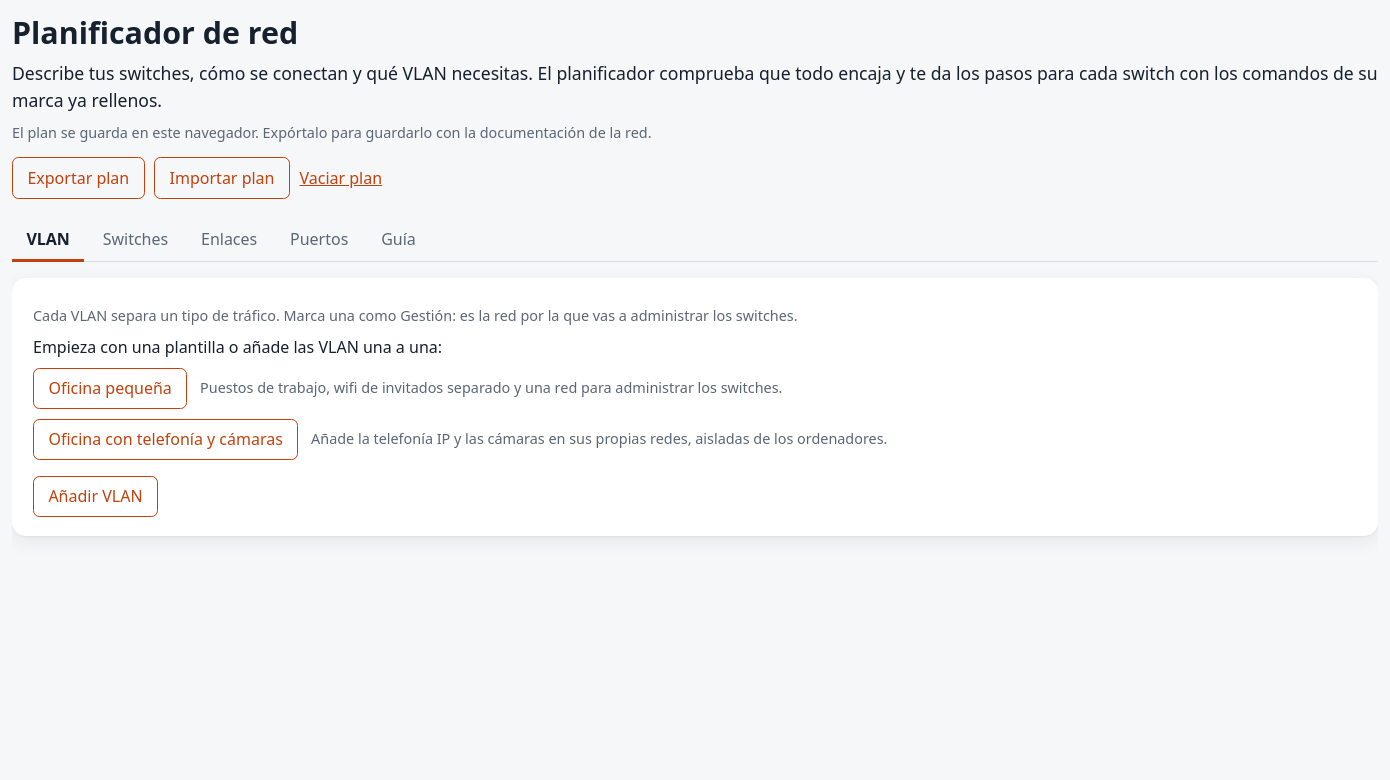
Scenario: PlannerPage › lists what is missing before showing a guide
Click the tab "Guía" at point(398, 240), box [367, 218, 430, 262]
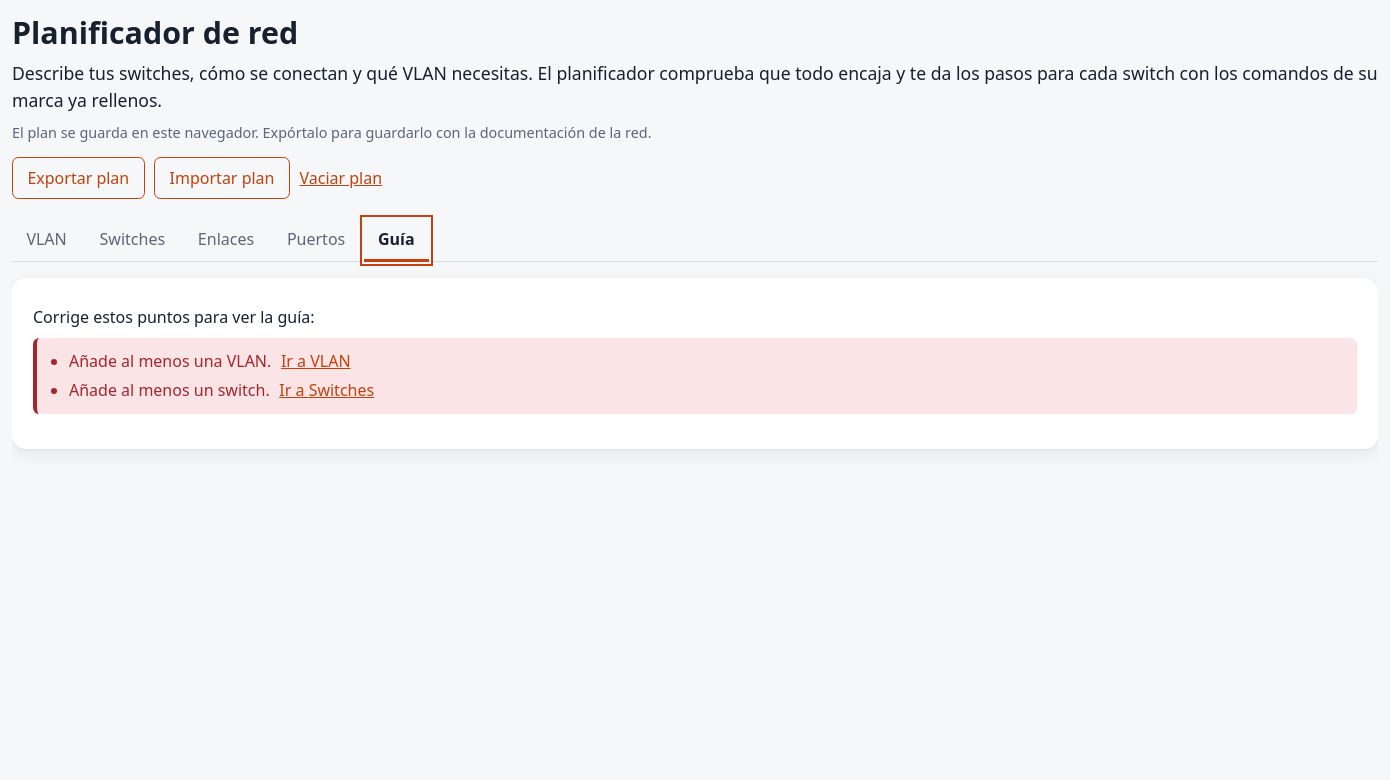
Expected: the list item "Añade al menos una VLAN." is shown, [69, 350, 271, 372]
